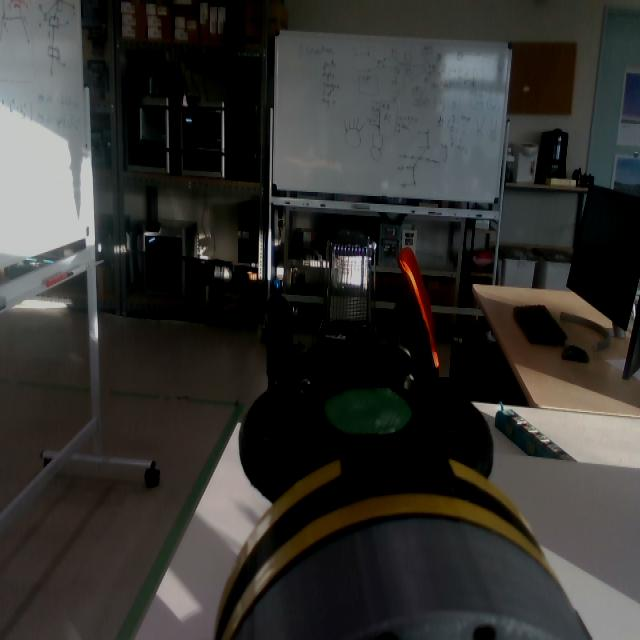body_connector: (233, 516, 592, 640)
connection: (202, 449, 591, 640)
leg: (214, 295, 544, 640)
leg_connector: (218, 448, 554, 638)
marker: (320, 384, 411, 438)
